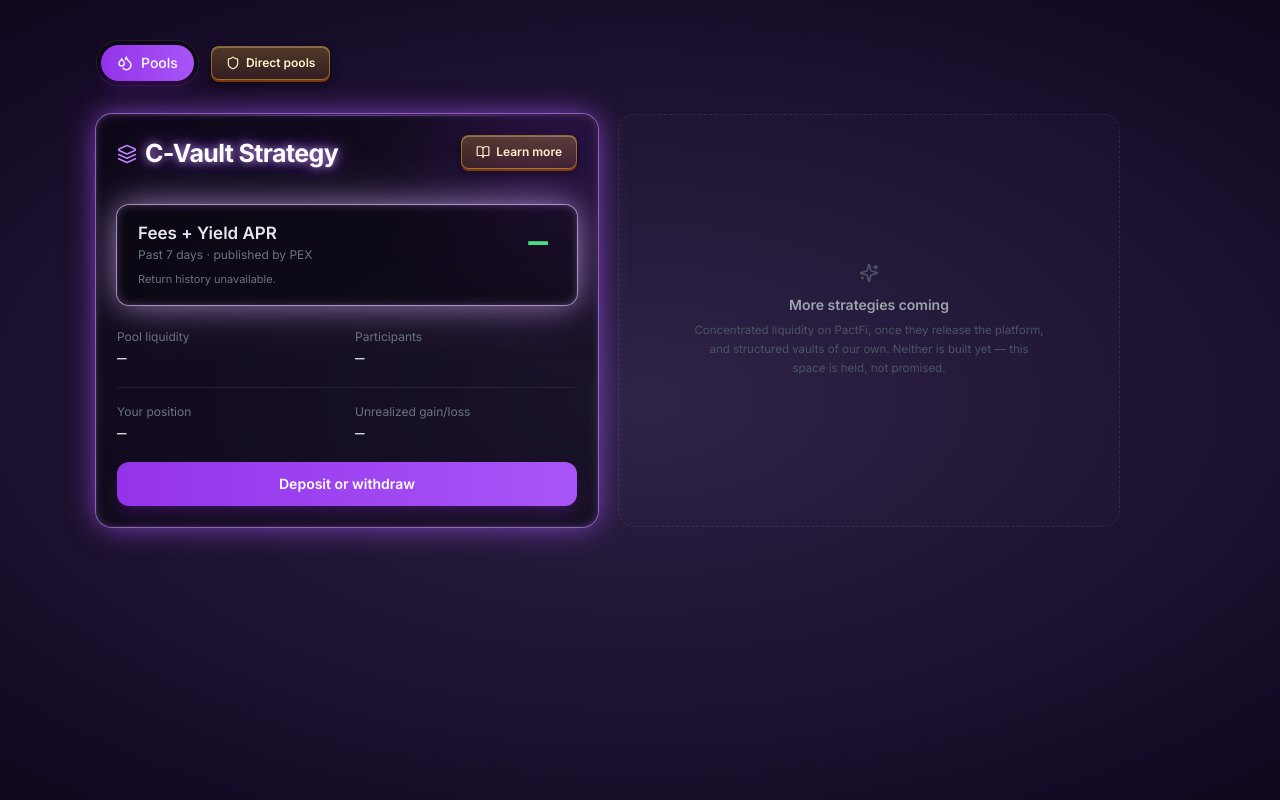
Test: the admin can open them › reveals both pool cards when pressed, and hides them again
The width and height of the screenshot is (1280, 800).
Check: the heading "C-Vault Strategy" is shown, box 145,135 -> 338,172
Click the button "Direct pools" at (271, 63), box 211,46 -> 330,80
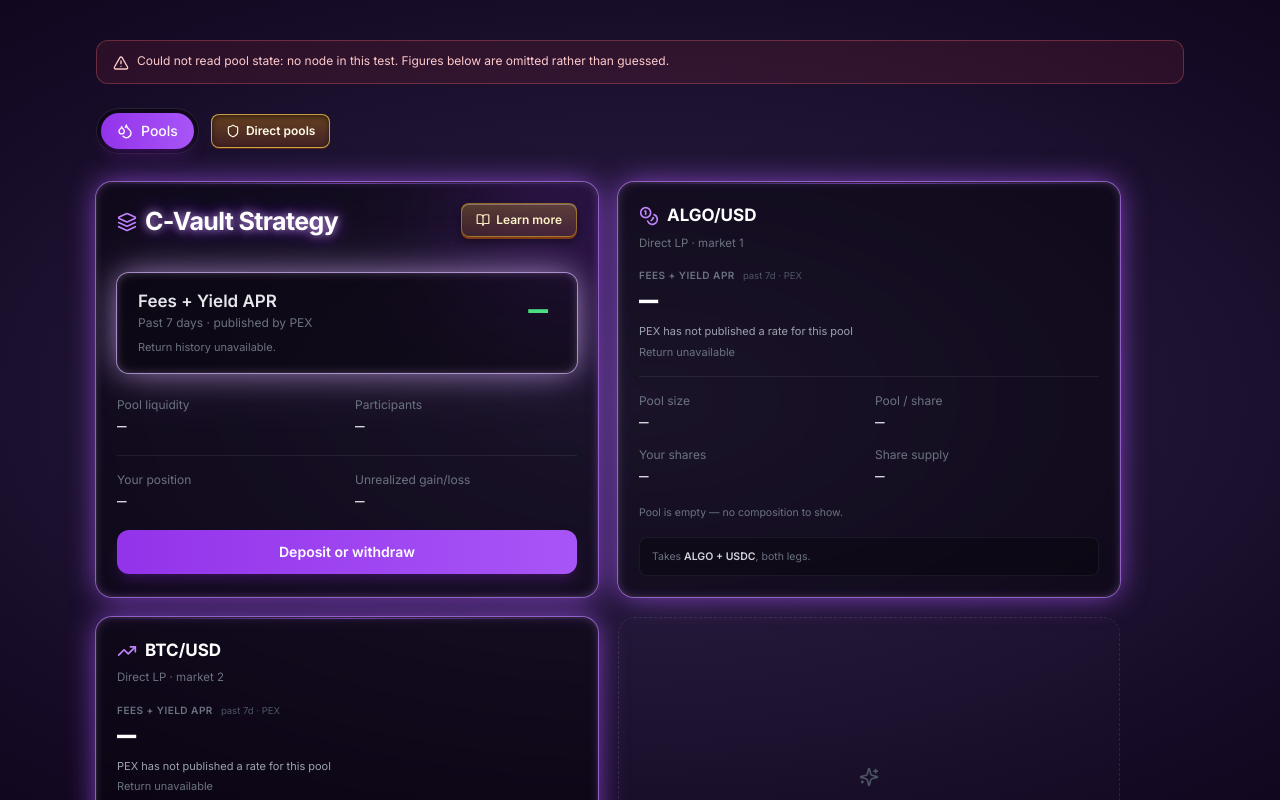
Check: the heading "ALGO/USD" is shown, box 667,203 -> 756,228
Check: the heading "BTC/USD" is shown, box 145,638 -> 221,663
Click the button "Direct pools" at (271, 131), box 211,114 -> 330,148
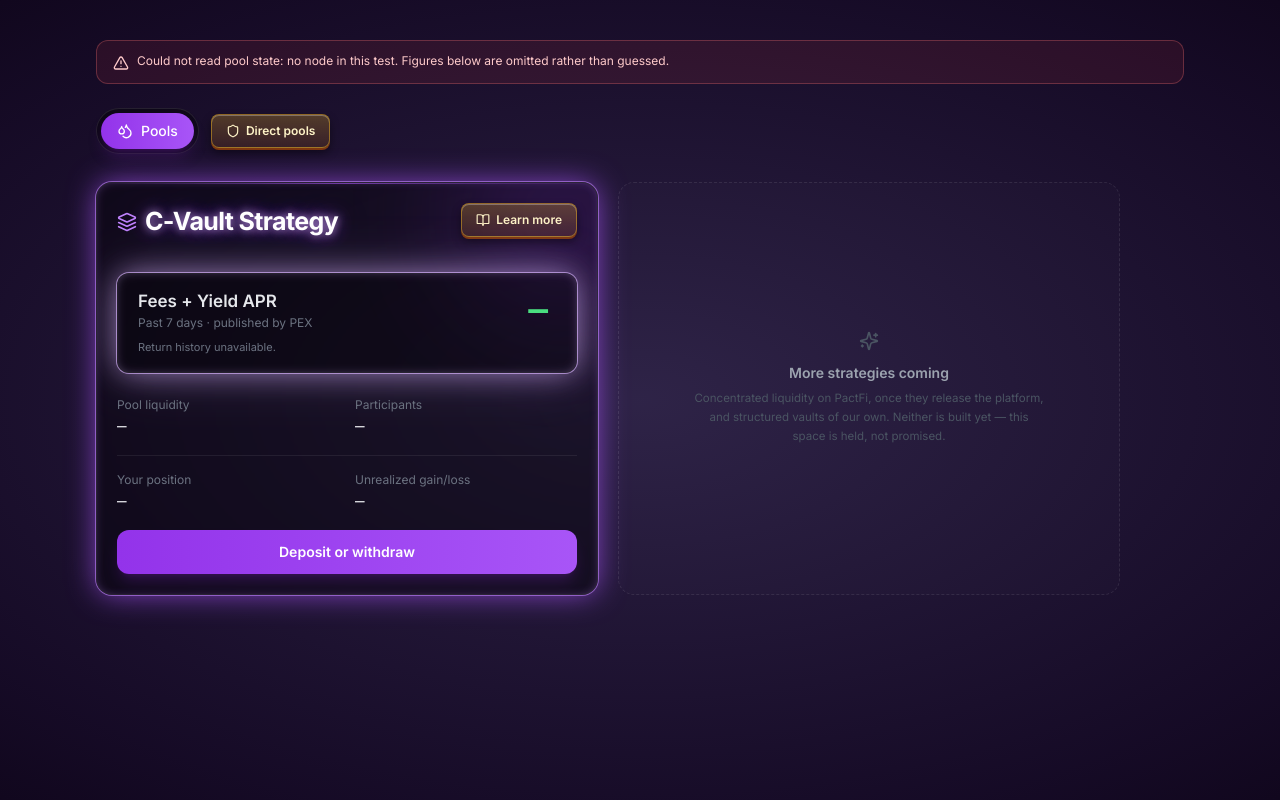
Check: the heading "ALGO/USD" is gone
